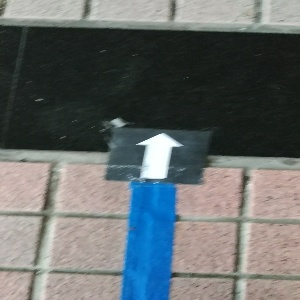straight: (103, 126, 208, 183)
